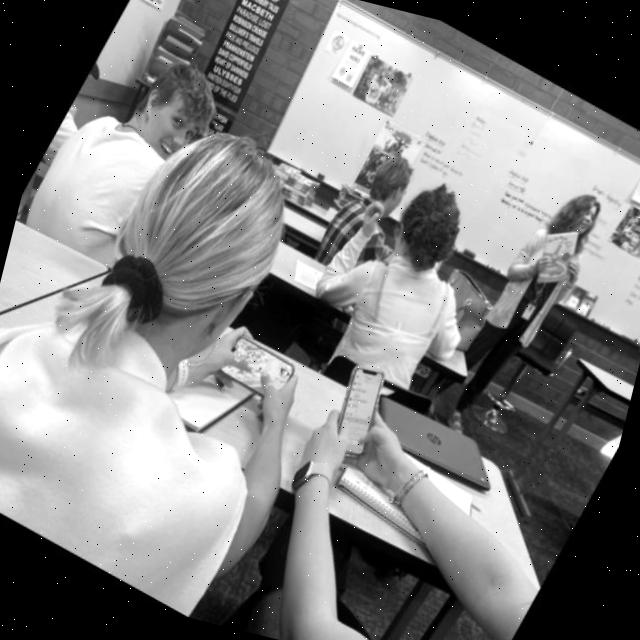phone: (311, 352, 407, 468), (213, 330, 302, 408)
